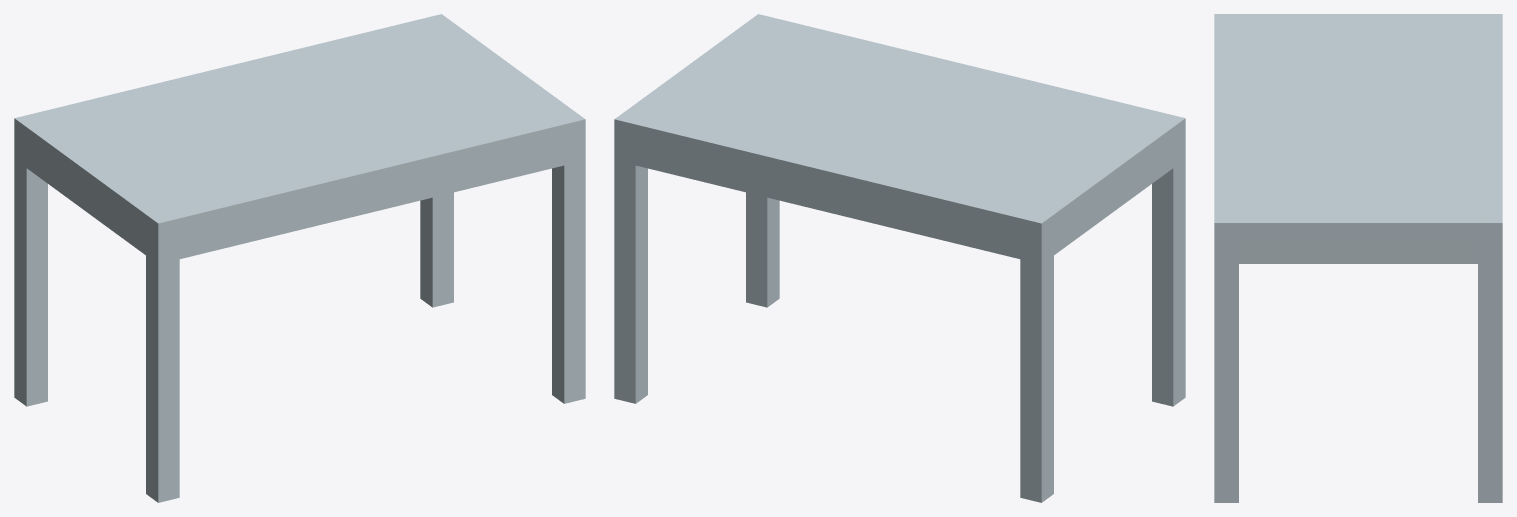
The model's file is assembly.glb.
3 renders of one model, left to right at view 1: azimuth 30°, elevation 25°; view 2: azimuth 150°, elevation 25°; view 3: azimuth 270°, elevation 25°, orthographic.
Parts seen in each view (by area): view 1: encimera, faldon_frontal, pata_frontal_izquierda, pata_frontal_derecha, pata_posterior_izquierda, pata_posterior_derecha, faldon_izquierdo; view 2: encimera, faldon_posterior, pata_posterior_izquierda, pata_posterior_derecha, pata_frontal_izquierda, pata_frontal_derecha, faldon_izquierdo; view 3: encimera, faldon_derecho, pata_frontal_derecha, pata_posterior_derecha.
Part boxes in pixels (x1,y1,x2,y2): encimera: [14, 14, 585, 234]; faldon_frontal: [179, 136, 564, 258]; pata_frontal_izquierda: [146, 226, 179, 502]; pata_frontal_derecha: [552, 130, 585, 403]; pata_posterior_izquierda: [14, 129, 47, 406]; pata_posterior_derecha: [420, 192, 453, 307]; faldon_izquierdo: [26, 138, 145, 254]; encimera: [614, 14, 1185, 234]; faldon_posterior: [635, 136, 1020, 258]; pata_posterior_izquierda: [1020, 226, 1053, 502]; pata_posterior_derecha: [614, 130, 647, 403]; pata_frontal_izquierda: [1152, 129, 1185, 406]; pata_frontal_derecha: [746, 192, 779, 307]; faldon_izquierdo: [1054, 138, 1173, 254]; encimera: [1214, 14, 1502, 233]; faldon_derecho: [1239, 234, 1477, 263]; pata_frontal_derecha: [1214, 234, 1238, 502]; pata_posterior_derecha: [1478, 234, 1502, 502].
Bounding box in the file's own units: 1.2 × 0.75 × 0.7.
